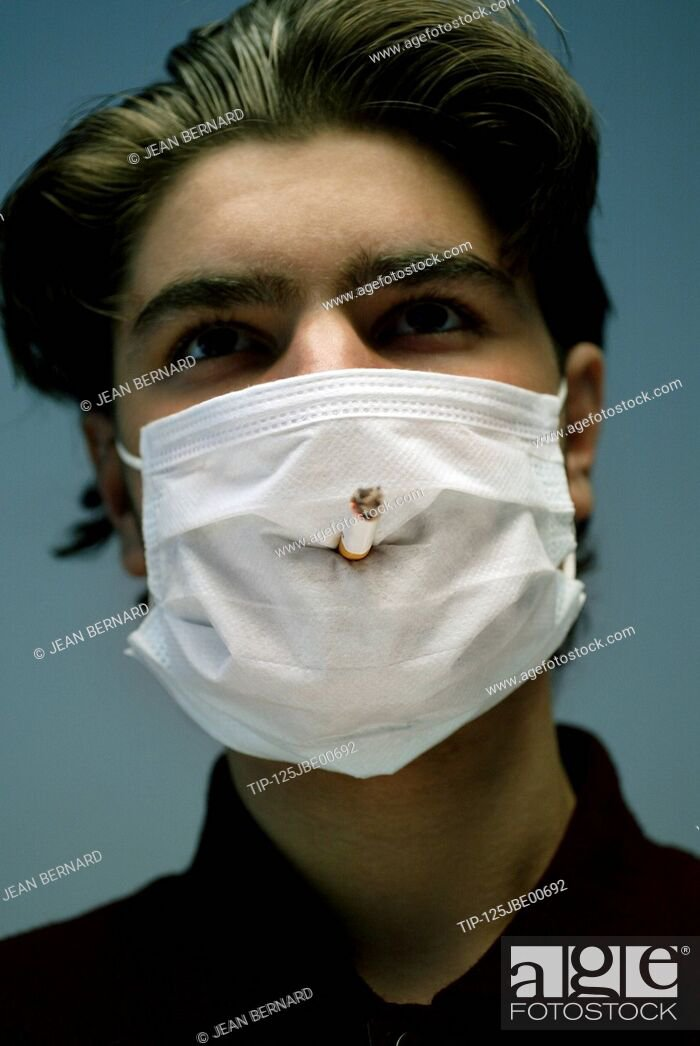mask: (11, 7, 646, 803)
